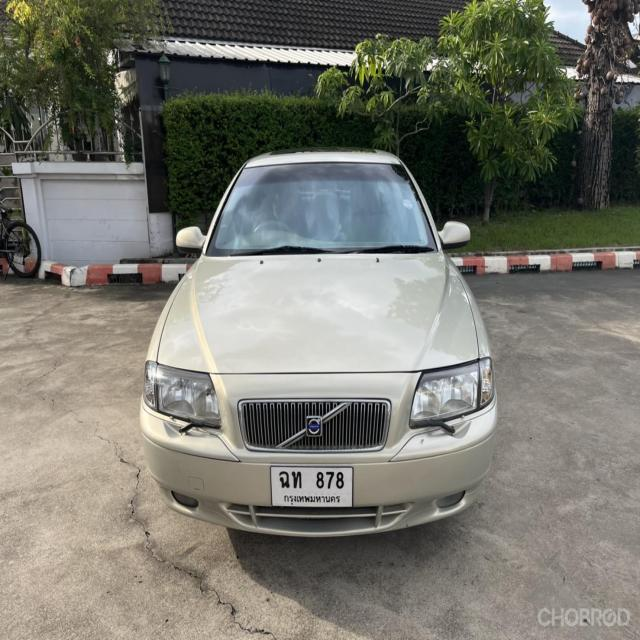license_plate: (268, 462, 355, 511)
